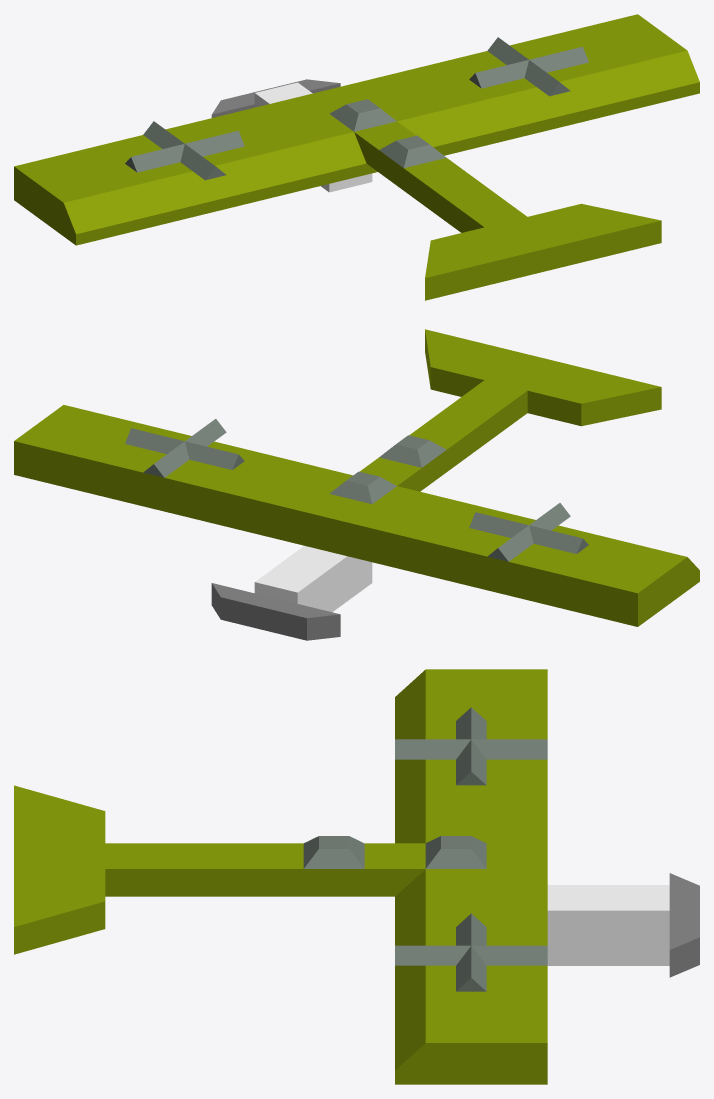
Rendered from Junkers CL.I YellowGreen.dae.
3 views of the same model, one above another, from view 1: azimuth 30°, elevation 25°; view 2: azimuth 150°, elevation 25°; view 3: azimuth 270°, elevation 25° (orthographic). The views are drawn at different scales.
Visible parts, largest first — view 1: Cube.010; view 2: Cube.010; view 3: Cube.010.
Boxes of the visible parts, bbox=[...] form: Cube.010: bbox=[14, 14, 699, 300]; Cube.010: bbox=[14, 329, 699, 640]; Cube.010: bbox=[14, 669, 699, 1084].
Bounding box in the file's own units: 5.8 × 4.5 × 0.8.
